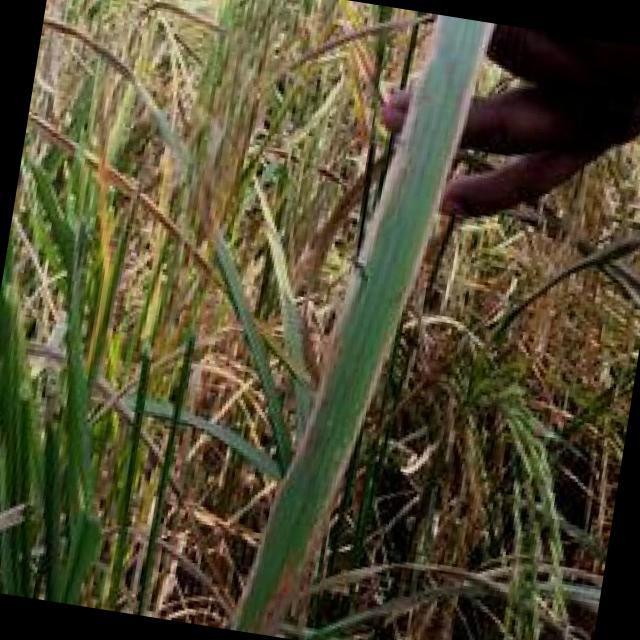Rice_Bacterial_Blight: (245, 10, 448, 609)
